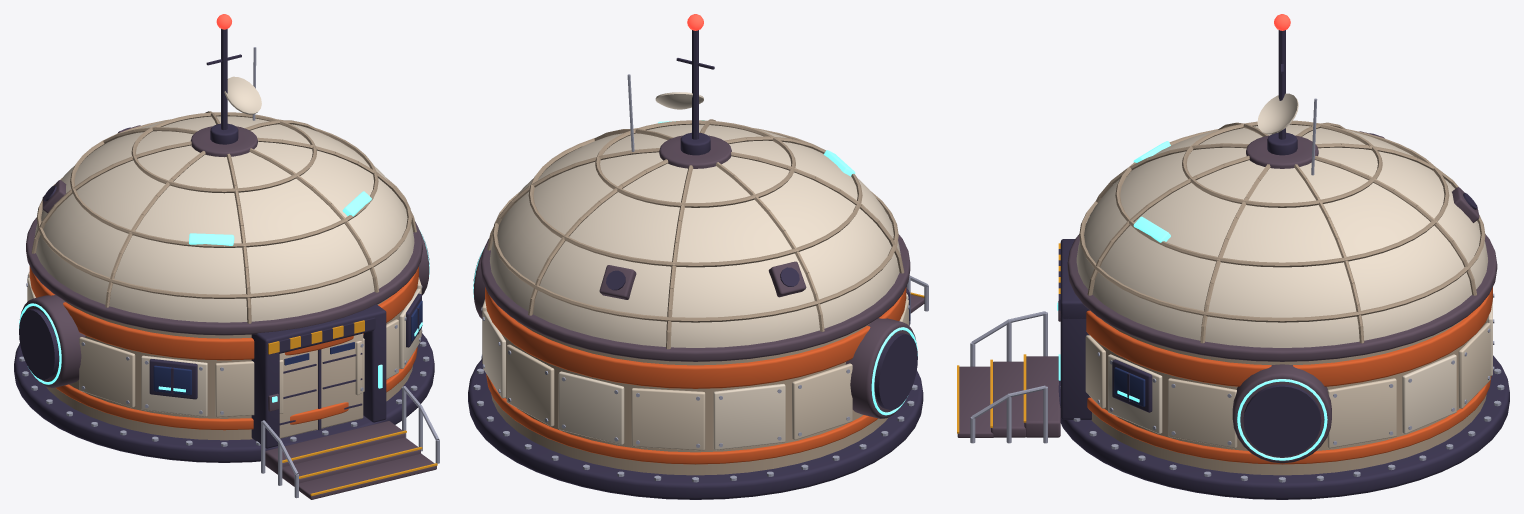
File: hab.glb
3 renders of one model, left to right at view 1: azimuth 30°, elevation 25°; view 2: azimuth 150°, elevation 25°; view 3: azimuth 270°, elevation 25°, orthographic. The views are drawn at different scales.
Parts seen in each view (by area): view 1: hab; view 2: hab; view 3: hab.
Boxes of the visible parts, x1,y1,x2,y2 form: hab: (14, 14, 439, 499); hab: (468, 14, 928, 499); hab: (957, 14, 1509, 499).
Bounding box in the file's own units: 7.72 × 7.1 × 9.11.
